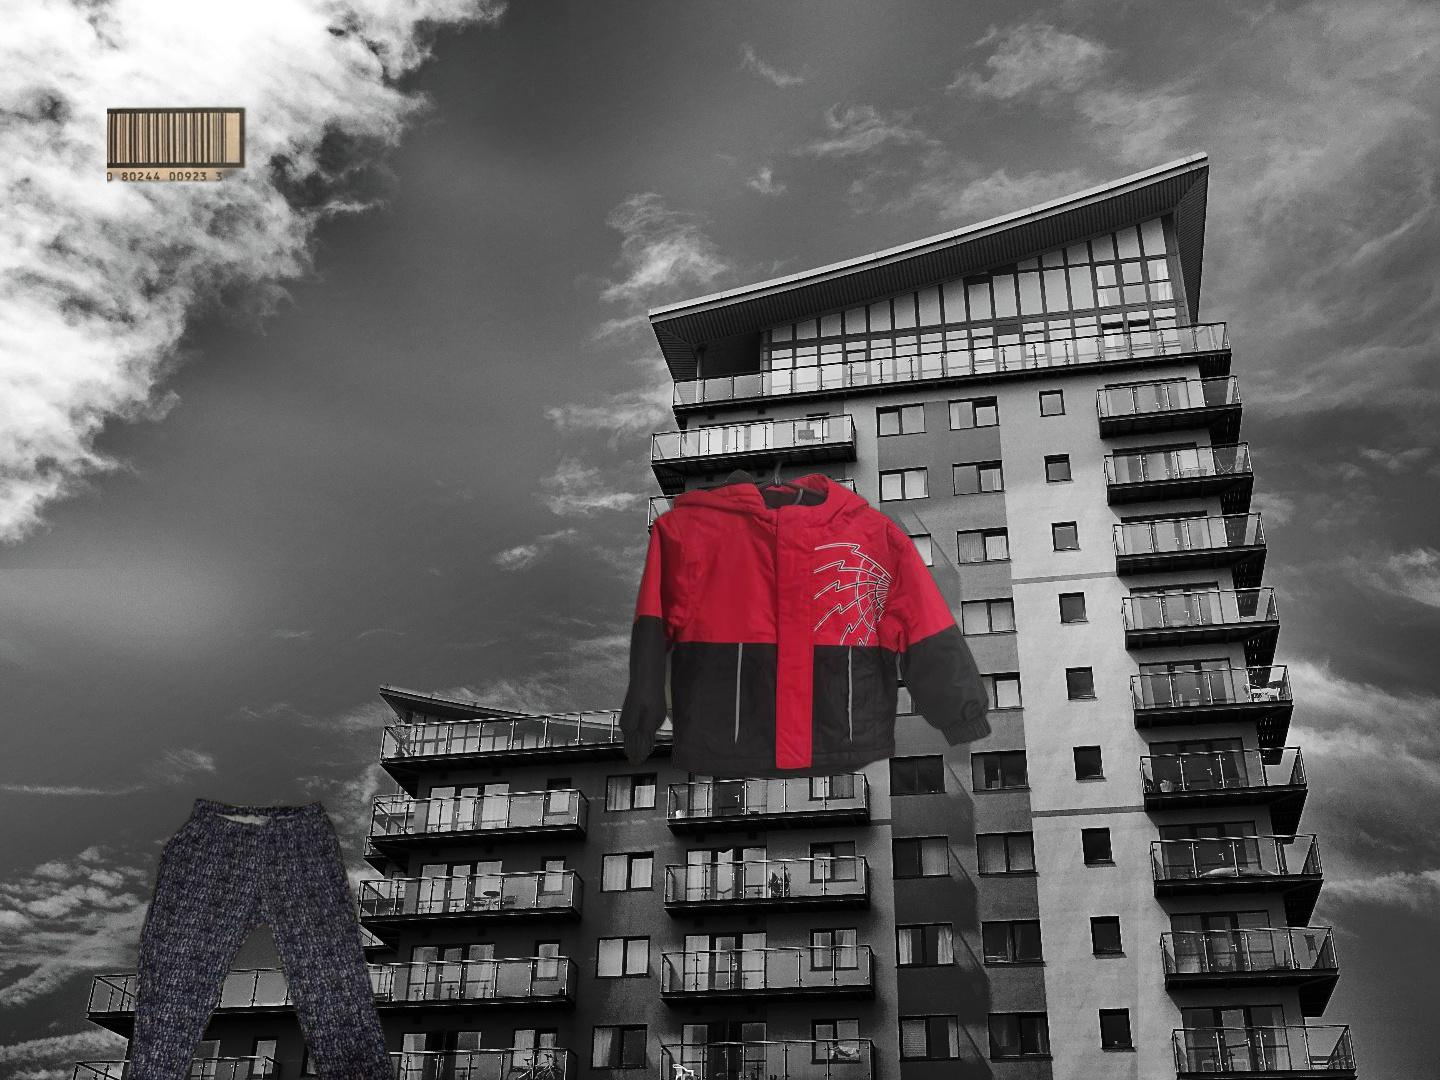clothes: (615, 444, 994, 783), (86, 788, 434, 1080)
trashbox-cardboard: (107, 106, 619, 340)
